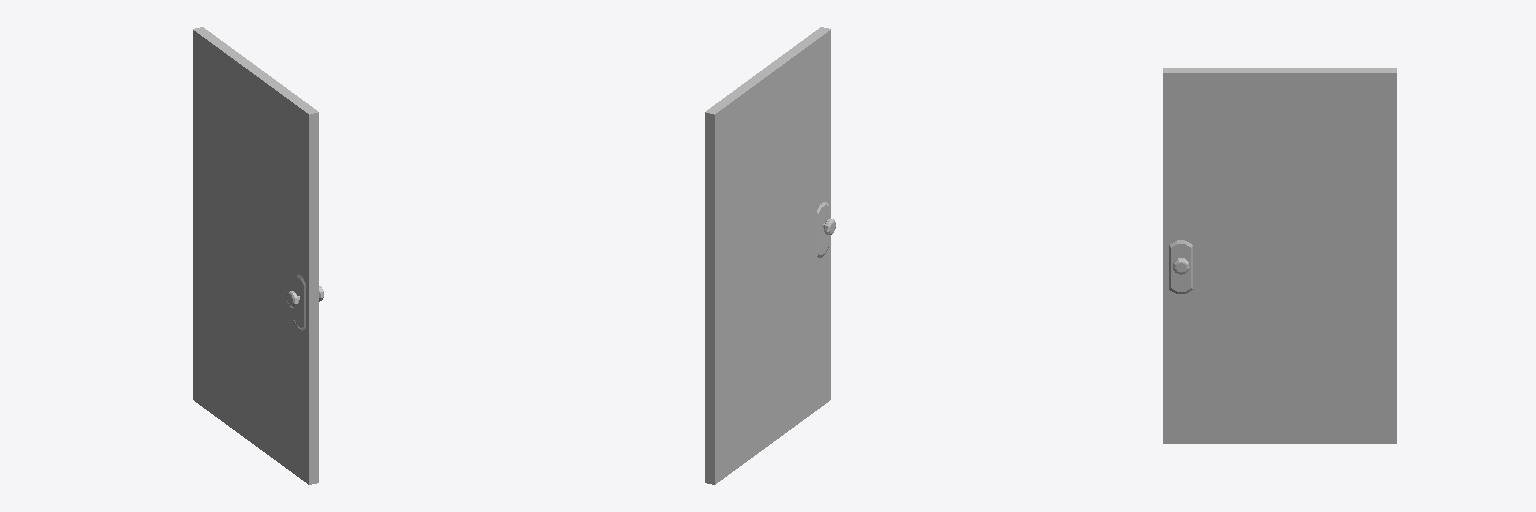
The model's file is door.obj.
3 views of the same model, side by side, from view 1: azimuth 30°, elevation 25°; view 2: azimuth 150°, elevation 25°; view 3: azimuth 270°, elevation 25° (orthographic).
Visible parts, largest first — view 1: door, UCX_door_00; view 2: door, UCX_door_00; view 3: door, UCX_door_00.
Part boxes in pixels (x1,y1,x2,y2): door: (193,27,323,484); UCX_door_00: (193,30,308,483); door: (705,27,835,484); UCX_door_00: (715,30,830,484); door: (1163,68,1396,443); UCX_door_00: (1163,73,1396,443).
Size of the model in its own units: 0.619 by 7 by 4.